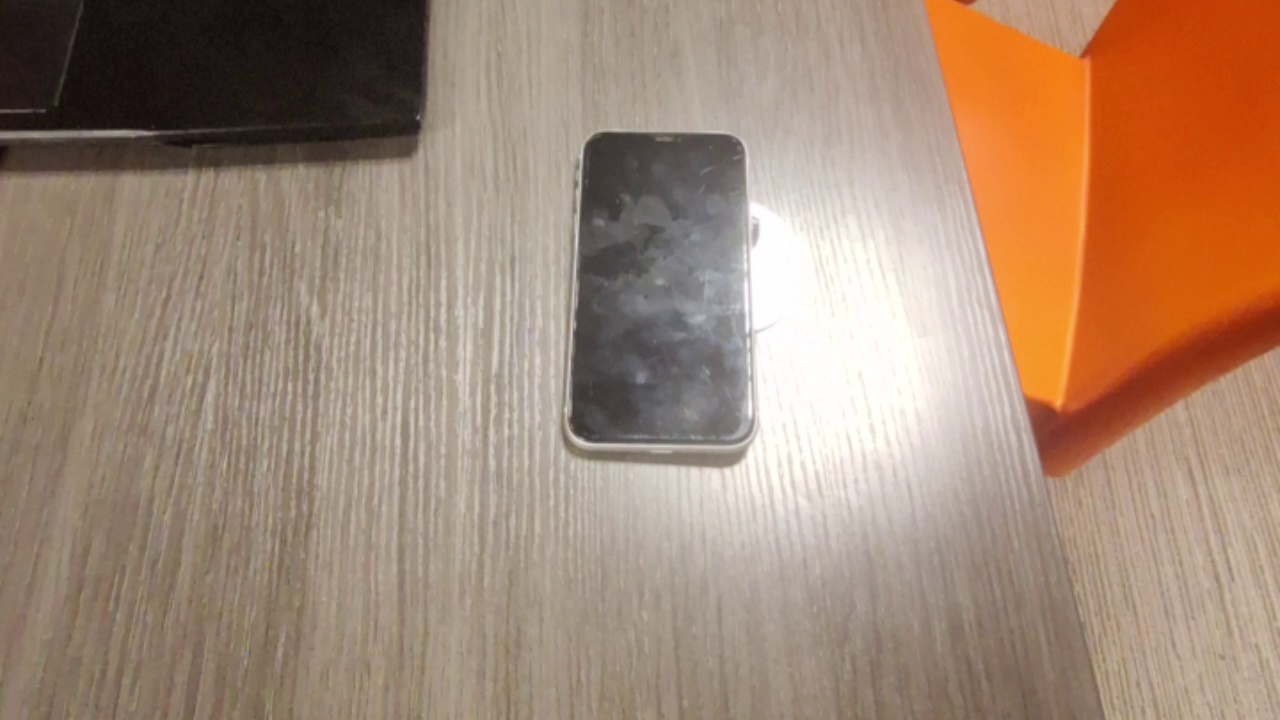celular: (564, 131, 760, 465)
